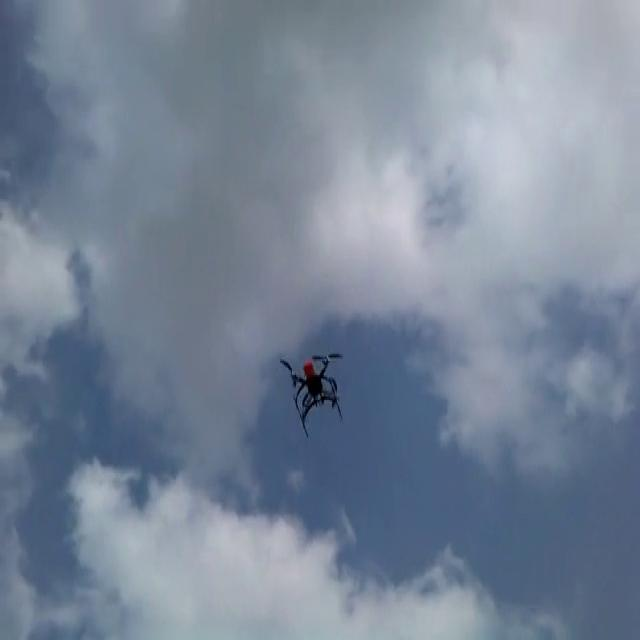drone: (279, 345, 345, 435)
